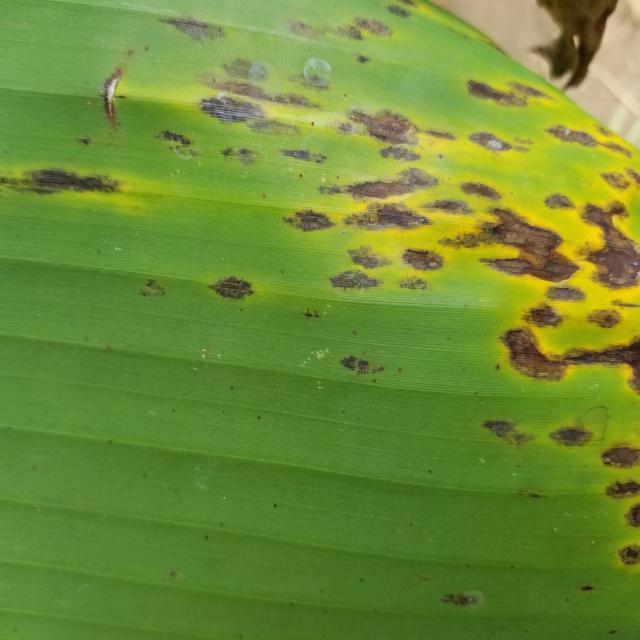Early_rust: (0, 6, 640, 624)
